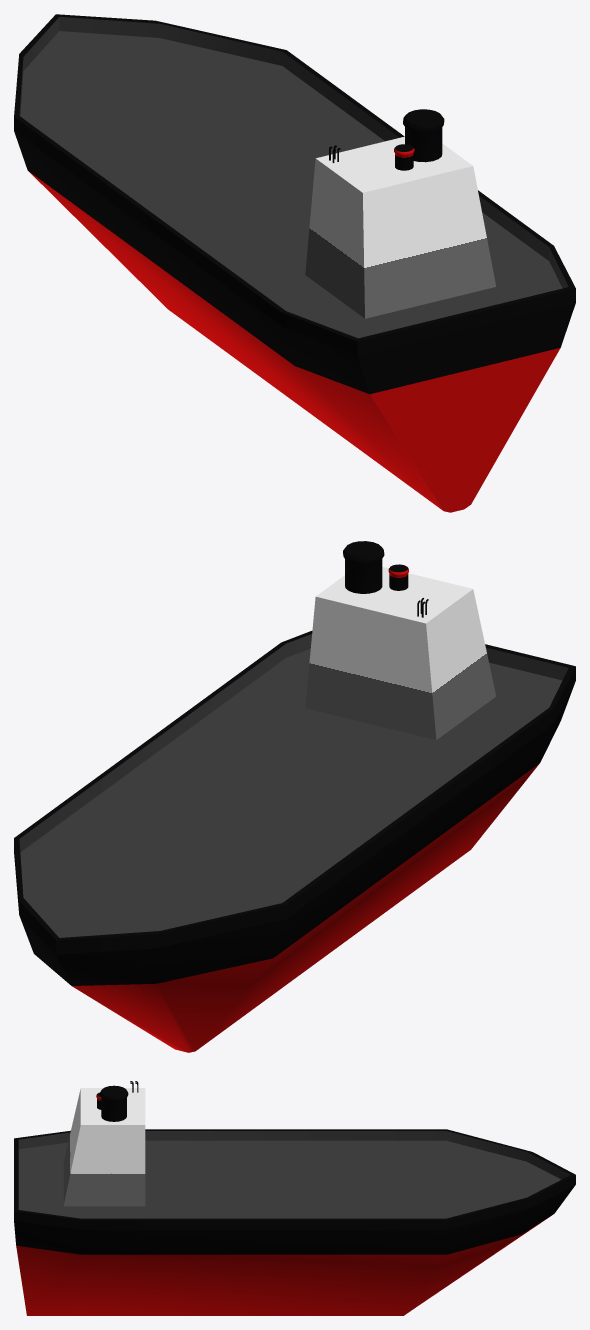
The model's file is Ship.glb.
The picture shows the model from 3 angles, top to bottom: view 1: azimuth 30°, elevation 25°; view 2: azimuth 150°, elevation 25°; view 3: azimuth 270°, elevation 25°; orthographic projection. The views are drawn at different scales.
Parts seen in each view (by area): view 1: Hull, Cabin, ChimneyLarge; view 2: Hull, Cabin, ChimneyLarge; view 3: Hull, Cabin, ChimneyLarge.
Part boxes in pixels (left/top/right/bottom): Hull: left=14, top=14, right=575, bottom=512; Cabin: left=305, top=136, right=496, bottom=318; ChimneyLarge: left=394, top=109, right=444, bottom=170; Hull: left=14, top=631, right=575, bottom=1052; Cabin: left=305, top=567, right=496, bottom=740; ChimneyLarge: left=343, top=541, right=408, bottom=593; Hull: left=14, top=1129, right=575, bottom=1315; Cabin: left=63, top=1088, right=145, bottom=1206; ChimneyLarge: left=96, top=1085, right=128, bottom=1121.
Bounding box in the file's own units: 3.84 × 4.57 × 10.02.
Materials: 1 (1 with a texture image).
